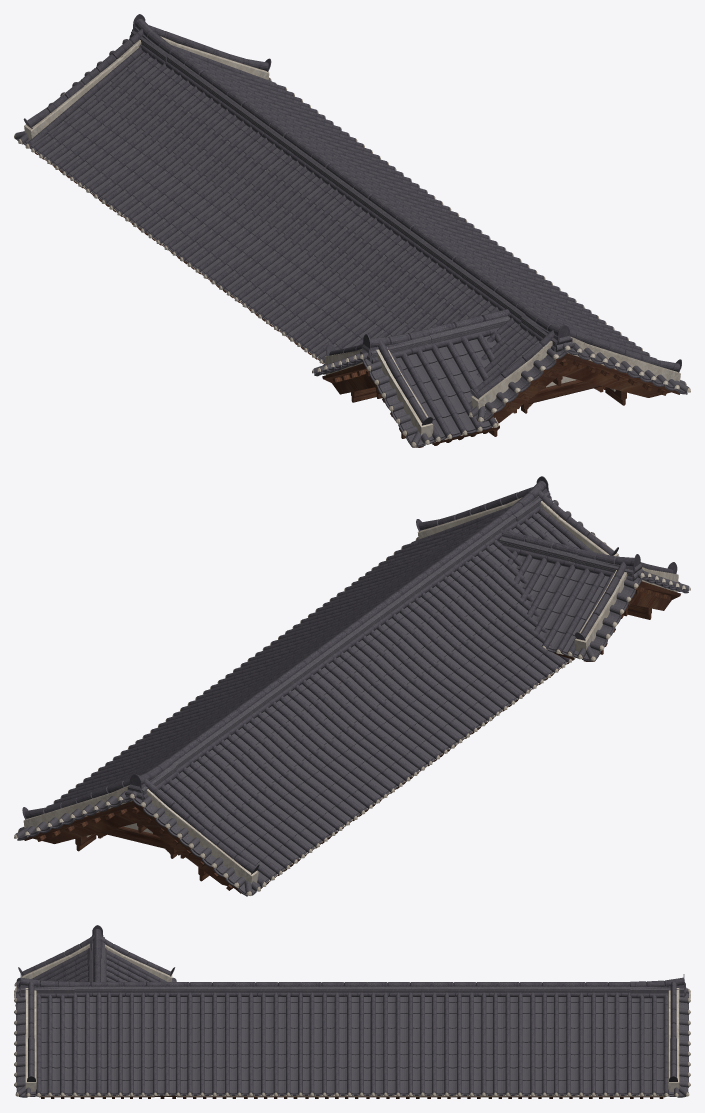
File: SM_R_Jeonsacheong.fbx
3 views of the same model, one above another, from view 1: azimuth 30°, elevation 25°; view 2: azimuth 150°, elevation 25°; view 3: azimuth 270°, elevation 25° (orthographic). The views are drawn at different scales.
Visible parts, largest first — view 1: SM_R_Jeonsacheong; view 2: SM_R_Jeonsacheong; view 3: SM_R_Jeonsacheong.
Boxes of the visible parts, bbox=[...] form: SM_R_Jeonsacheong: bbox=[14, 14, 690, 447]; SM_R_Jeonsacheong: bbox=[14, 476, 690, 896]; SM_R_Jeonsacheong: bbox=[14, 925, 690, 1098].
Size of the model in its own units: 981 by 2594 by 335.
5 materials, 5 textured.
